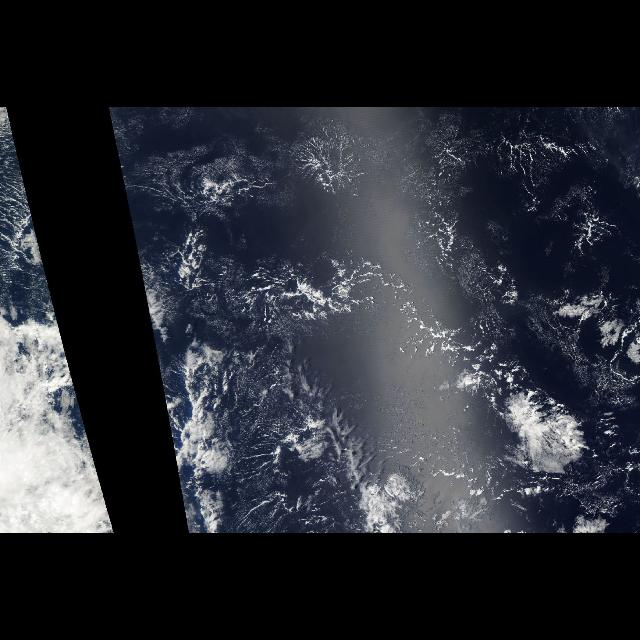Gravel: (157, 120, 639, 340)
